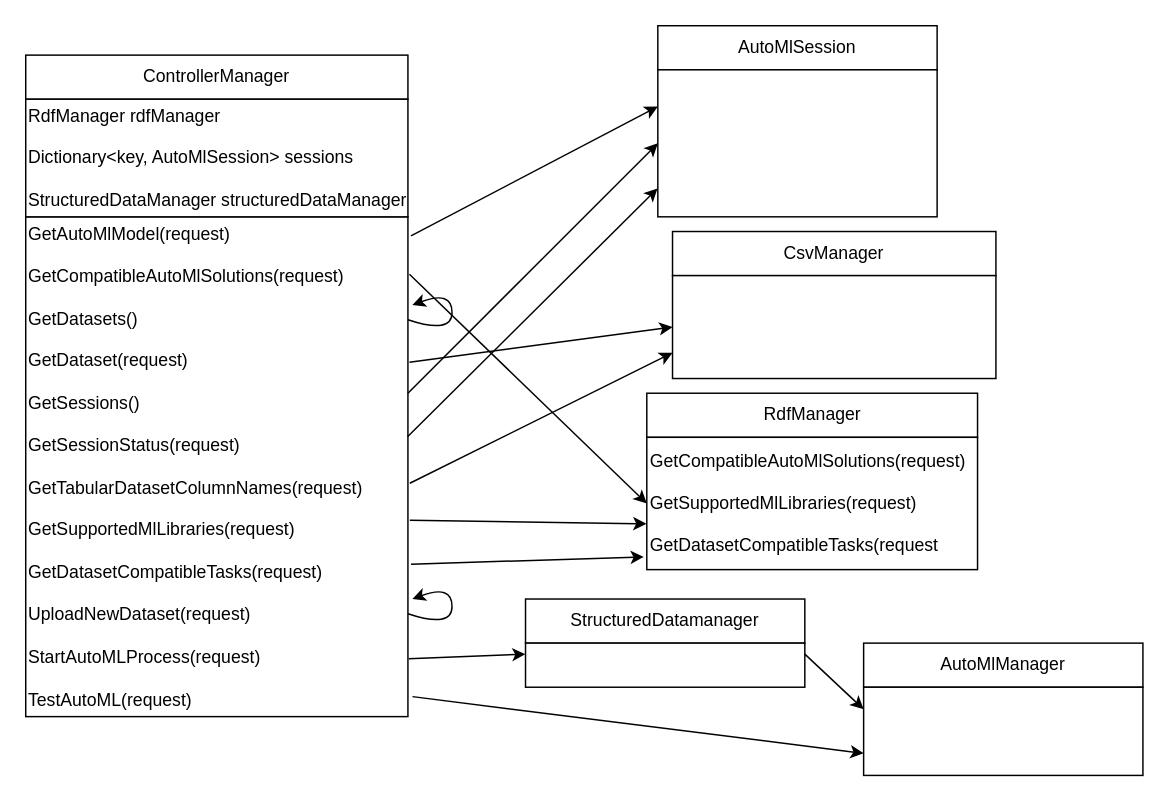
This 1169x801 diagram has some shape labels left out. The shapes that lost their labels are listed below. From the top down, each one's centre as x and y in pixels, then its label:
At [796,142]: "get_automl_model(request) get_id() get_session_status()".
At [833,326]: "read_dataset(path) read_column_names(path)".
At [664,664]: "start_automl(configuration, datasetfolder, sessionCounter)".
At [1002,730]: "start() testSoltuion(testData, sessionId)".
